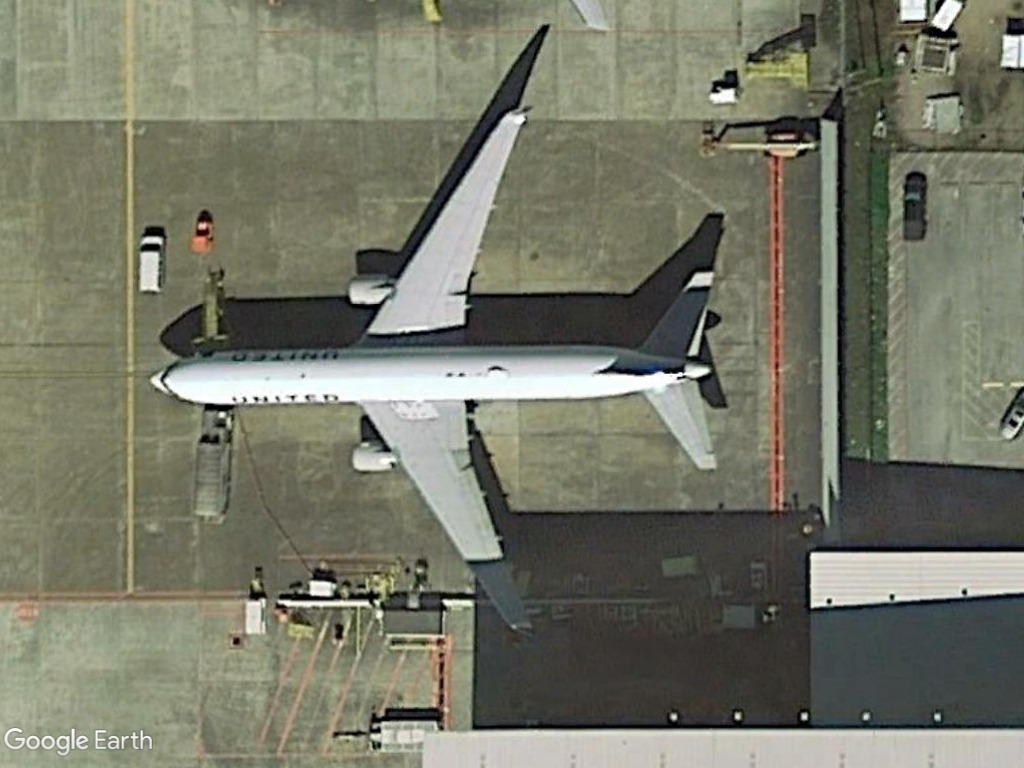airliner: (137, 99, 727, 643)
truck: (188, 415, 239, 525)
van: (134, 228, 171, 300)
